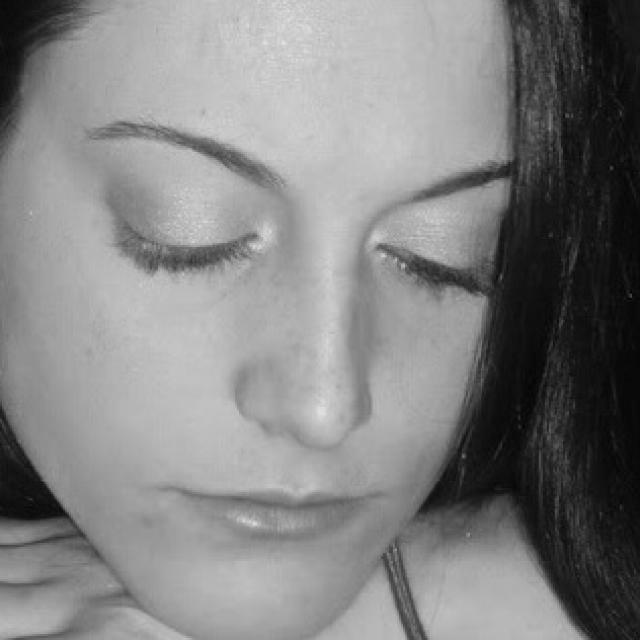real: (14, 14, 530, 618), (103, 161, 506, 315)
